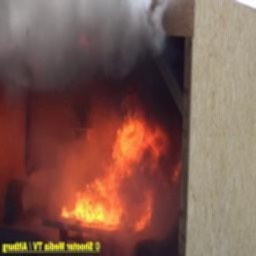fire: (51, 107, 171, 240)
